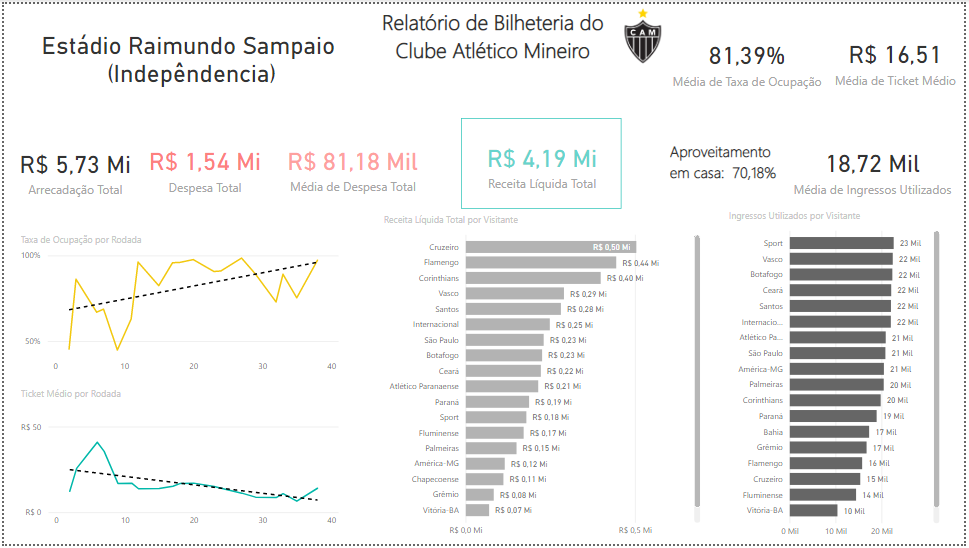

Layout of this report page (visuals, bound fields, positions):
{"tool":"powerbi","page":{"name":"Página 1","canvas":[1280,720],"ordinal":0},"visuals":[{"type":"card","title":"Somatório","fields":{"Values":["Clube Atletico Mineiro.Despesa Total"]},"box":[171.6,162.3,191.6,110.4],"z":0},{"type":"card","title":"Somatório","fields":{"Values":["Clube Atletico Mineiro.Arrecadação Total"]},"box":[0,162.3,190.3,117.1],"z":1000},{"type":"card","title":"Somatório","fields":{"Values":["Clube Atletico Mineiro.Receita Líquida Total"]},"box":[609.4,151.7,214.2,121.1],"z":2000},{"type":"card","title":"Média Total","fields":{"Values":["Clube Atletico Mineiro.Ticket Médio"]},"box":[1097.7,0,182.3,150.4],"z":3000},{"type":"card","title":"Média Total","fields":{"Values":["Clube Atletico Mineiro.Taxa de Ocupação"]},"box":[882.2,0,215.6,154.3],"z":4000},{"type":"textbox","box":[451.1,0,401.8,147.7],"z":5000},{"type":"image","box":[761.1,0,181,83.8],"z":6000},{"type":"card","fields":{"Values":["Clube Atletico Mineiro.Despesa Total"]},"box":[363.2,161,204.9,111.8],"z":7000},{"type":"lineChart","title":"Taxa de Ocupação por Rodada","fields":{"Category":["Clube Atletico Mineiro.Rodada"],"Y":["Clube Atletico Mineiro.Taxa de Ocupação"]},"box":[17.3,304.7,433.8,195.6],"z":8000},{"type":"lineChart","title":"Ticket Médio por Rodada","fields":{"Category":["Clube Atletico Mineiro.Rodada"],"Y":["Clube Atletico Mineiro.Ticket Médio"]},"box":[17,511,434,196],"z":9000},{"type":"clusteredBarChart","fields":{"Category":["Clube Atletico Mineiro.Visitante"],"Y":["Clube Atletico Mineiro.Receita Líquida Total"]},"box":[500.9,279.3,431.7,440.7],"z":10000},{"type":"clusteredBarChart","fields":{"Category":["Clube Atletico Mineiro.Visitante"],"Y":["Clube Atletico Mineiro.Ingressos Utilizados"]},"box":[960.9,272.9,290.8,447.1],"z":11000},{"type":"card","fields":{"Values":["Clube Atletico Mineiro.Ingressos Utilizados"]},"box":[1045.8,163.7,224.9,113.1],"z":12000},{"type":"textbox","box":[882.2,177,173,95.8],"z":13000},{"type":"card","fields":{"Values":["Clube Atletico Mineiro.Local"]},"box":[0,0,500.3,142.4],"z":14000}]}

Visuals, with their boxes in screenshot pixels (x1, y1, x2, y2), scaled from the page's 1280x720 canvas onto the 969x548 screenshot:
"Somatório" card: select_region(130, 124, 275, 208)
"Somatório" card: select_region(0, 124, 144, 213)
"Somatório" card: select_region(461, 115, 623, 208)
"Média Total" card: select_region(831, 0, 968, 114)
"Média Total" card: select_region(668, 0, 831, 117)
textbox: select_region(341, 0, 646, 112)
image: select_region(576, 0, 713, 64)
card - Clube Atletico Mineiro.Despesa Total: select_region(275, 123, 430, 208)
"Taxa de Ocupação por Rodada" lineChart: select_region(13, 232, 341, 381)
"Ticket Médio por Rodada" lineChart: select_region(13, 389, 341, 538)
clusteredBarChart - Clube Atletico Mineiro.Visitante x Clube Atletico Mineiro.Receita Líquida Total: select_region(379, 213, 706, 547)
clusteredBarChart - Clube Atletico Mineiro.Visitante x Clube Atletico Mineiro.Ingressos Utilizados: select_region(727, 208, 948, 547)
card - Clube Atletico Mineiro.Ingressos Utilizados: select_region(792, 125, 962, 211)
textbox: select_region(668, 135, 799, 208)
card - Clube Atletico Mineiro.Local: select_region(0, 0, 379, 108)
